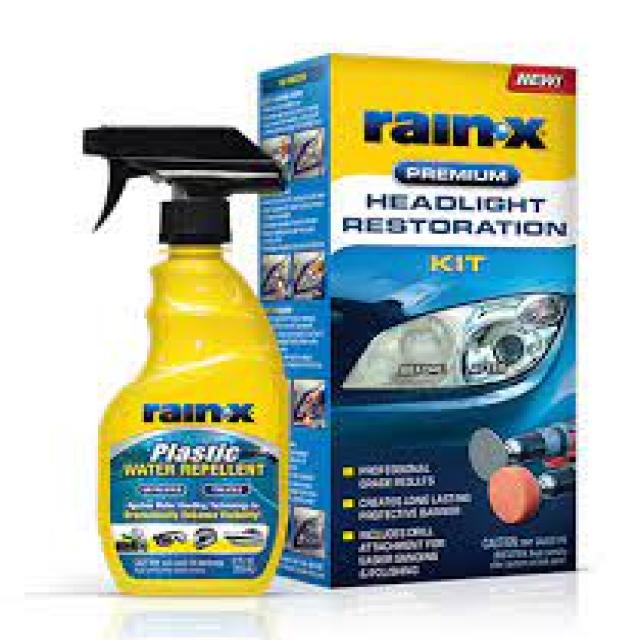winwinshield_washer: (75, 127, 292, 599)
